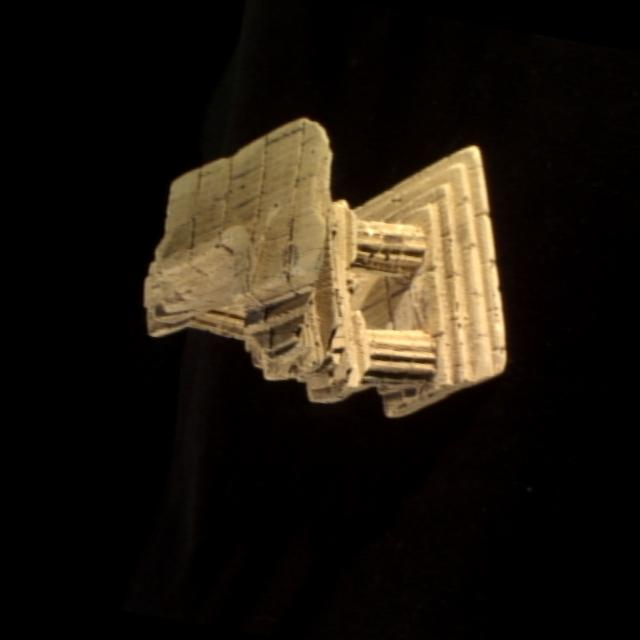Instance-Segmentation: (144, 116, 505, 415)
